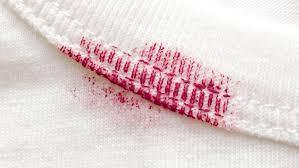kimchi: (58, 38, 234, 132)
